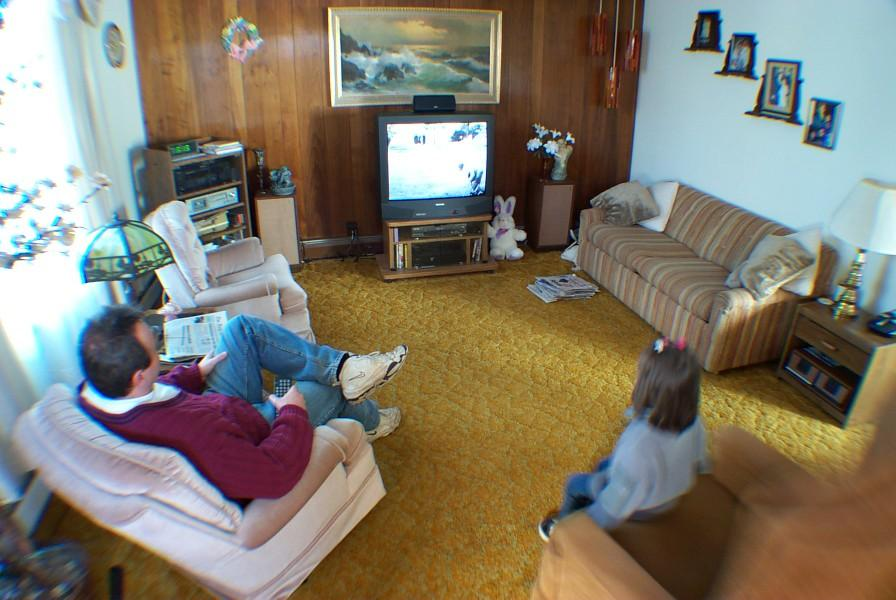person: (76, 305, 410, 505)
